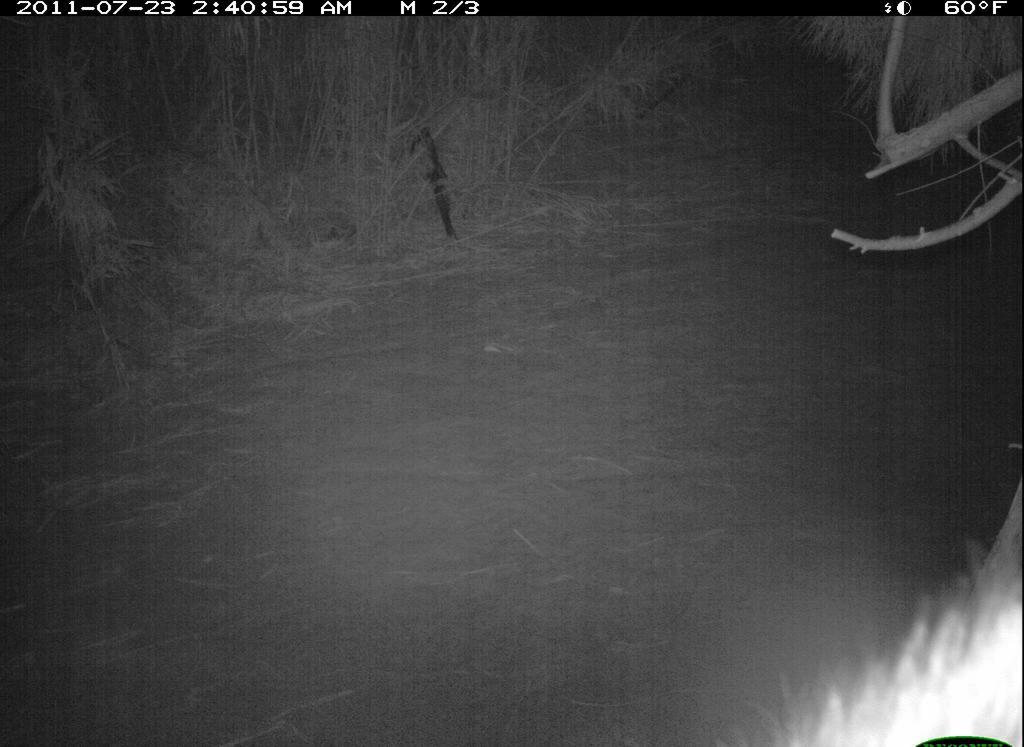raccoon: (722, 523, 1021, 747)
